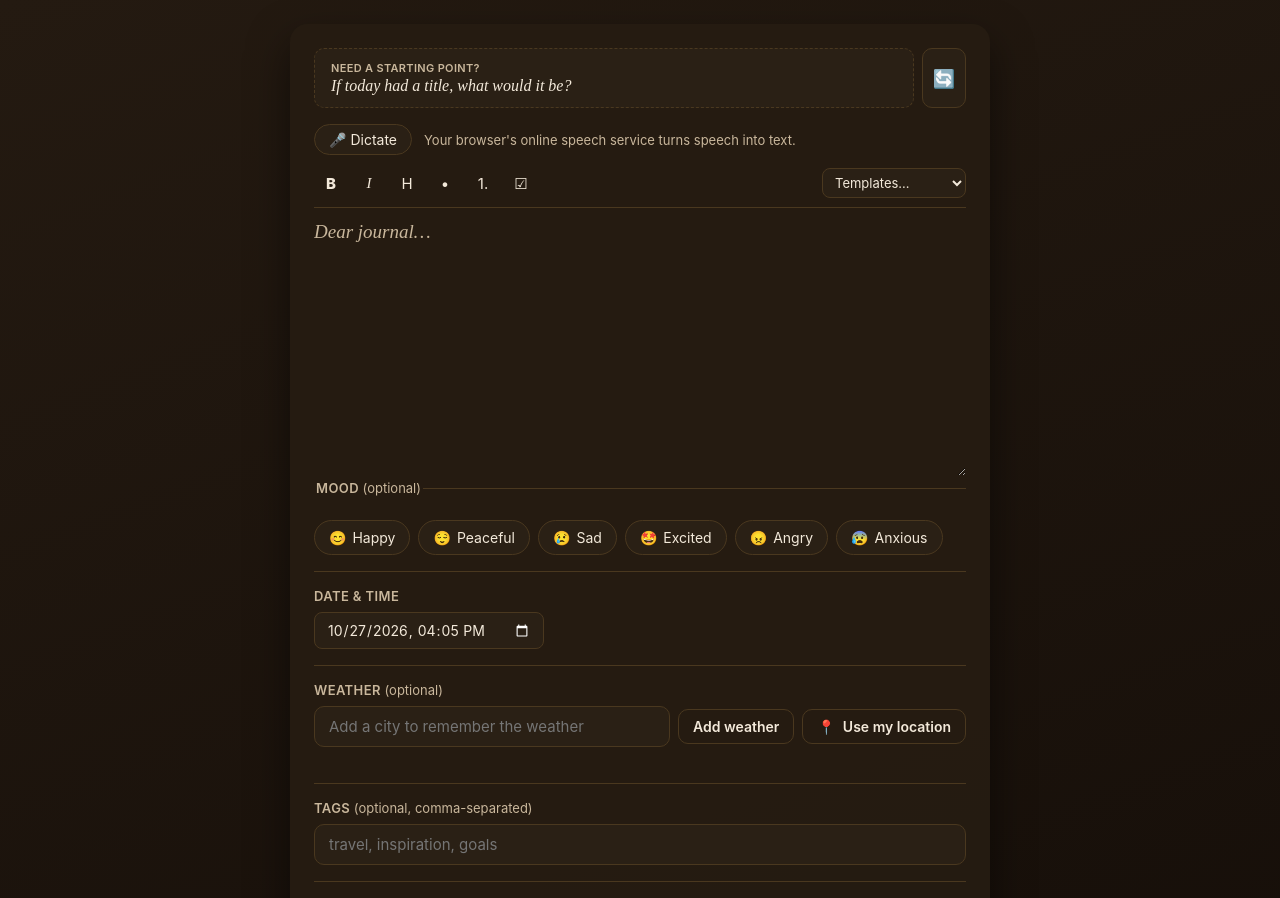
Weather in the entry form › explains when location access is blocked
The width and height of the screenshot is (1280, 898).
Step 1. Click the button with aria-label "use my current location" → (884, 726), box [802,709,966,744]
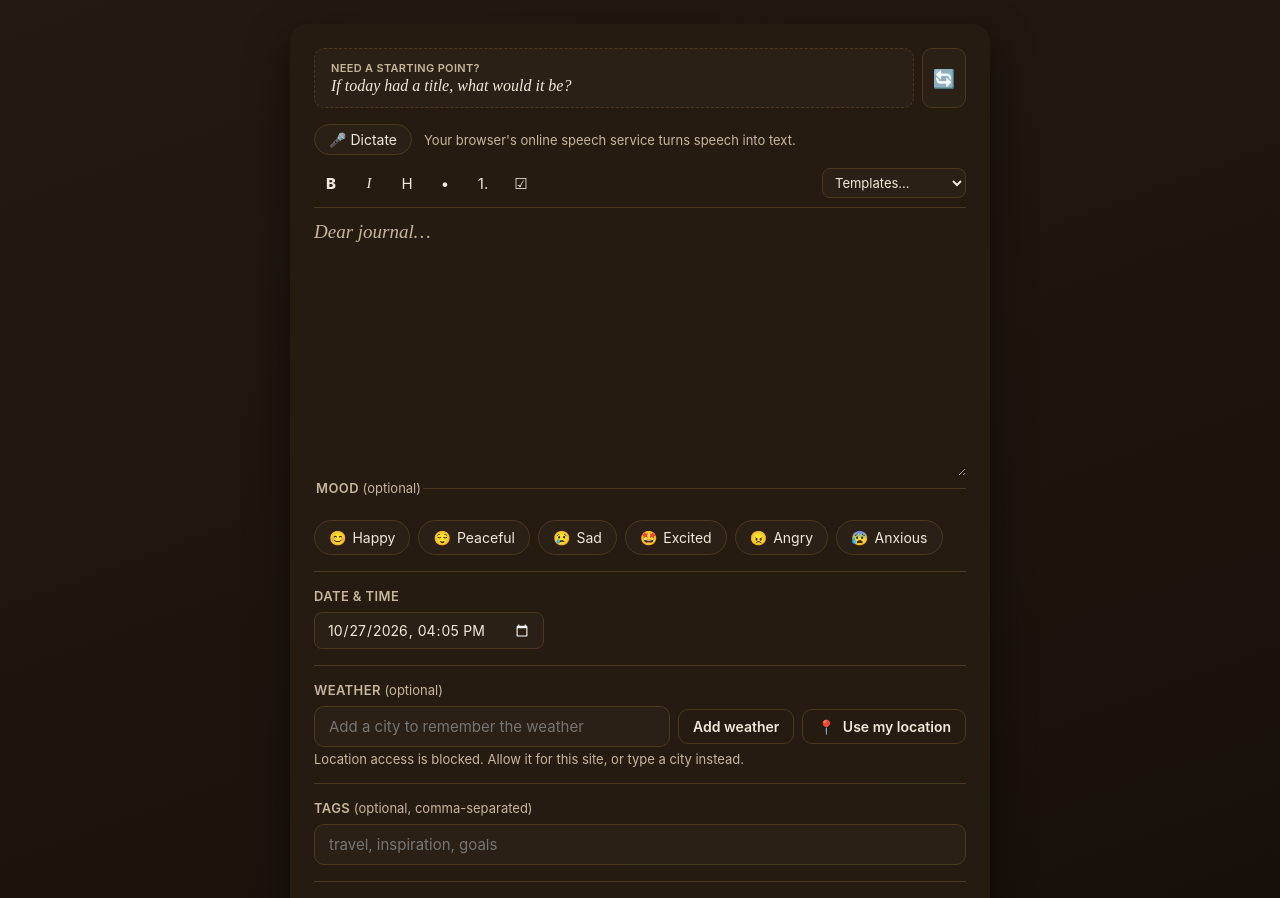
Check: the text "Location access is blocked" is shown, box [314,751,744,767]
